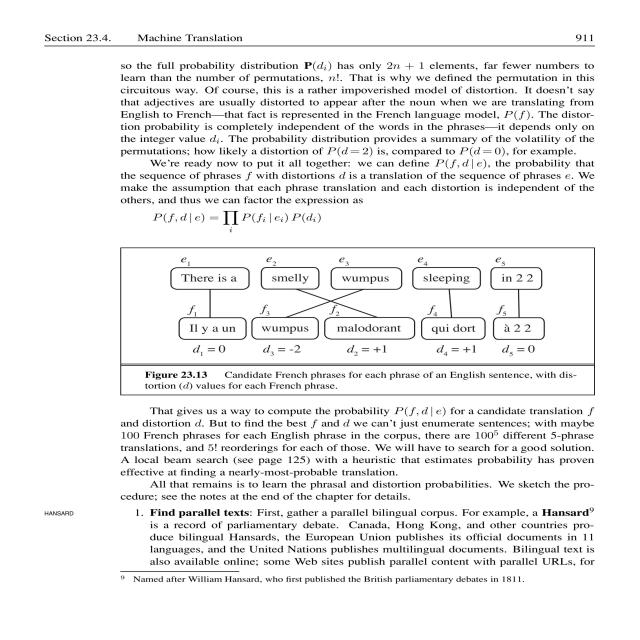diagram: (84, 236, 640, 401)
